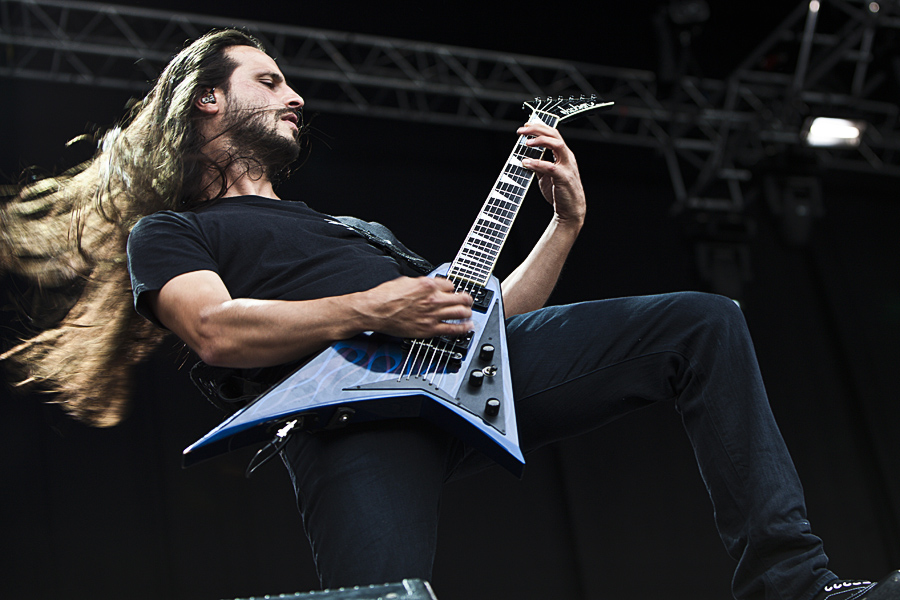acousticguitar: (176, 92, 620, 484)
